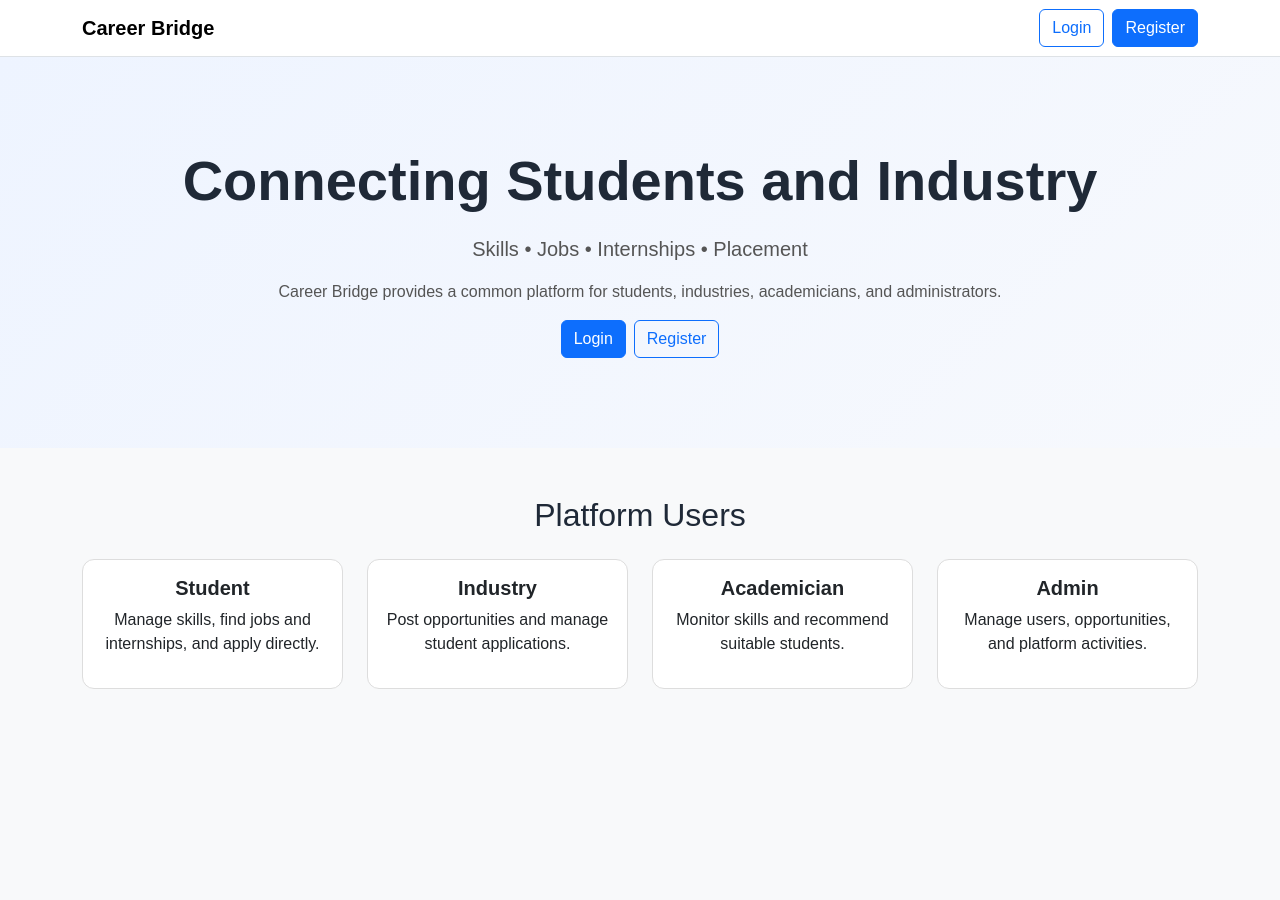
Test case: login flow against the backend response shape › admin role is not offered on the registration form
Click the 1st button "Register": (1155, 28) [1112,9,1198,47]
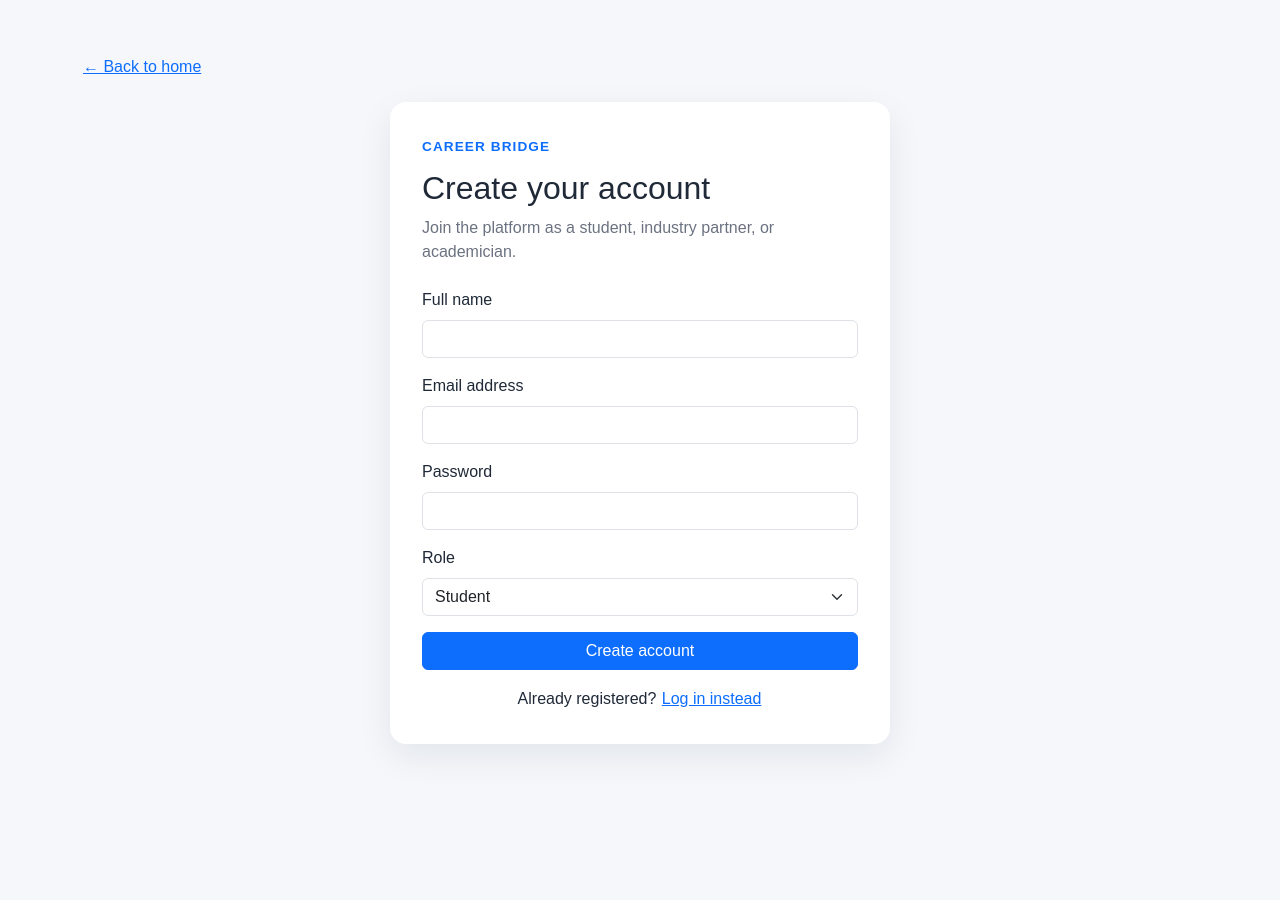
Check: the text "Administrator" is gone
